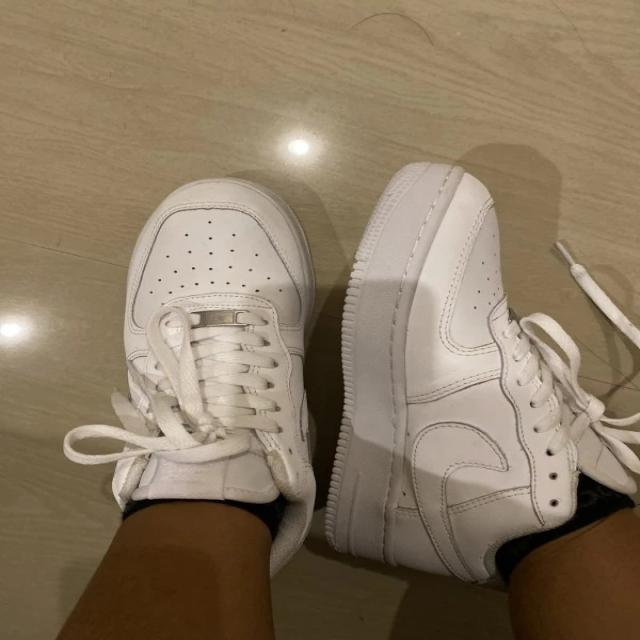nike fake air force: (322, 162, 634, 584), (106, 176, 322, 584)
